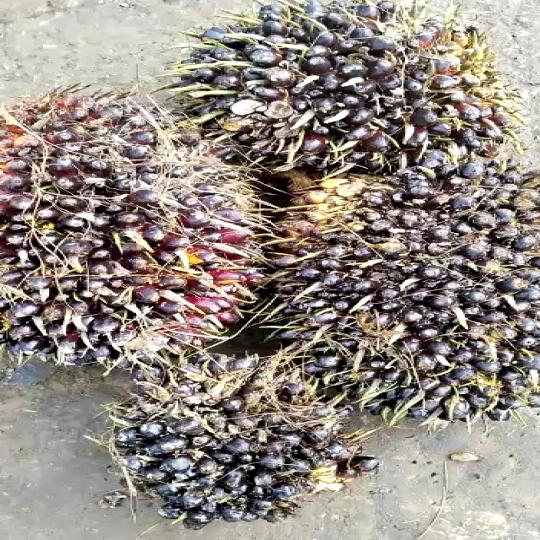mentah: (0, 76, 277, 362), (261, 176, 540, 426), (179, 0, 540, 172), (103, 356, 363, 529)
